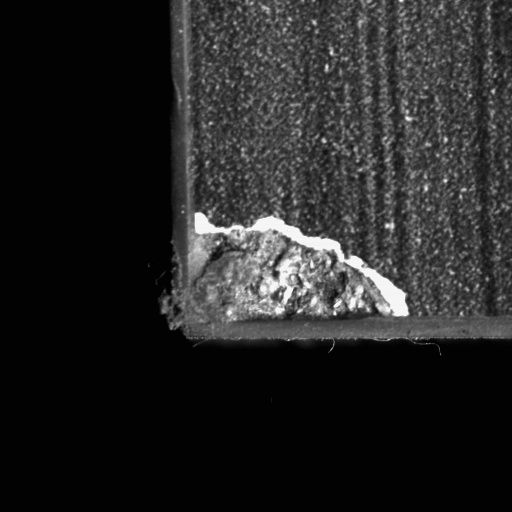bengque: (193, 236, 371, 320)
